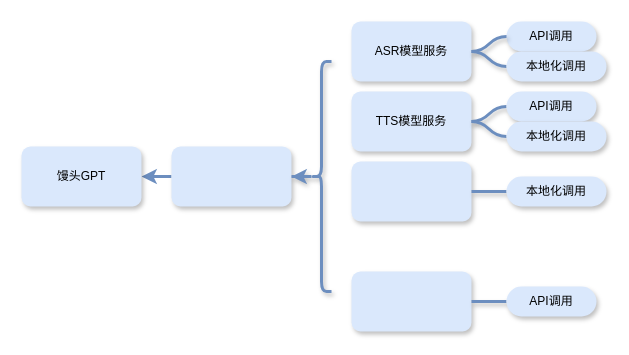
The diagram is 629 pixels wide and 355 high, and some of its shapes have lost their labels. Each missing label, with the centre of its shape:
代码解释器: (412,192)
其他插件服务: (412,302)
插件服务配置: (232,177)
